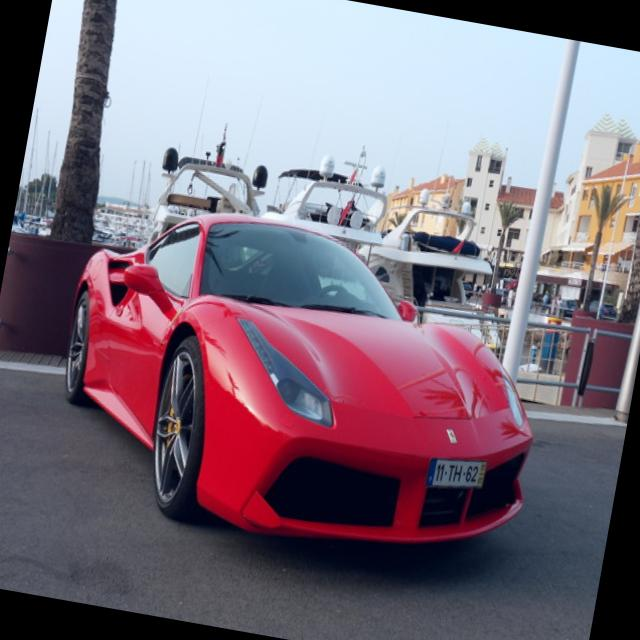portuguese-license-plates: (421, 453, 489, 490)
